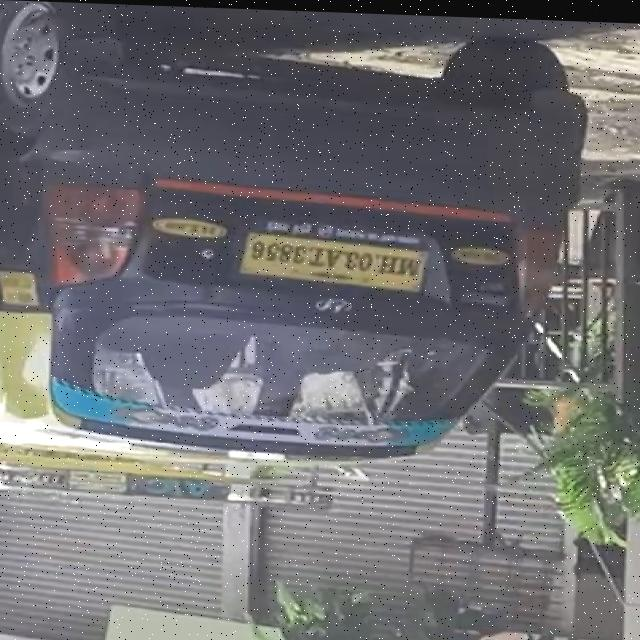plate: (232, 226, 433, 291)
